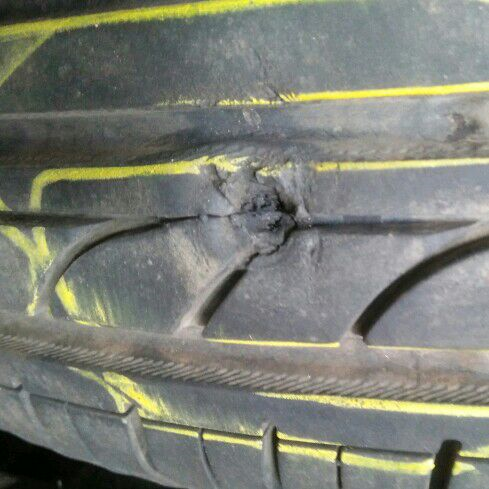tr: (192, 133, 324, 263)
